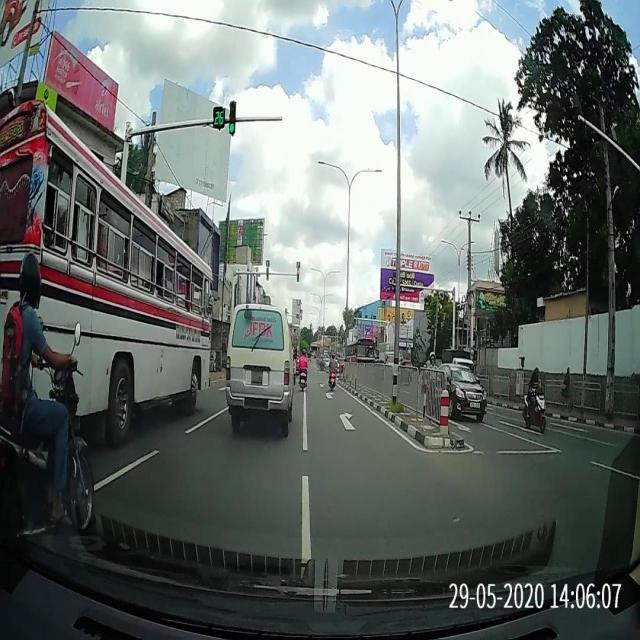Strelka vpravo: (339, 411, 355, 430)
